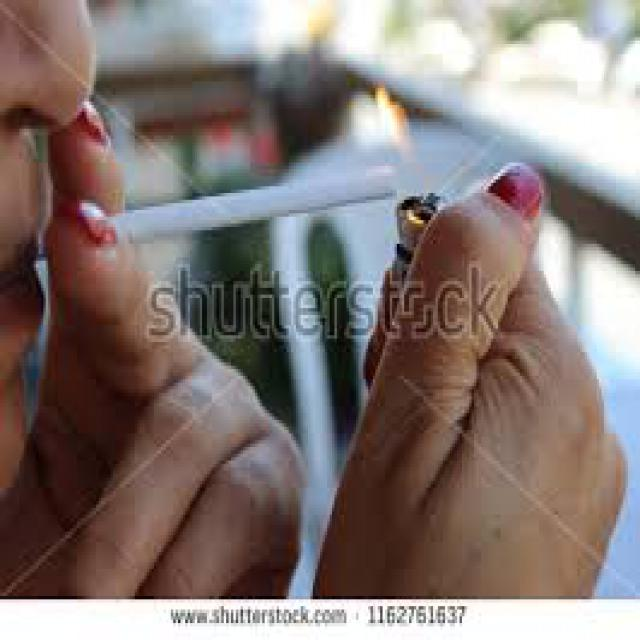fire: (352, 82, 446, 204)
